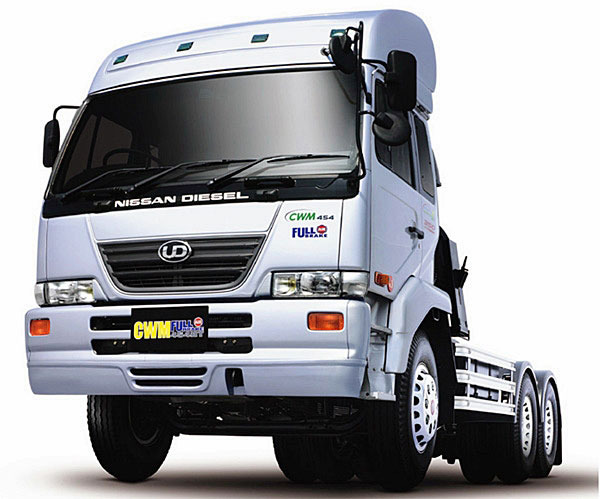truck: (20, 5, 567, 493)
